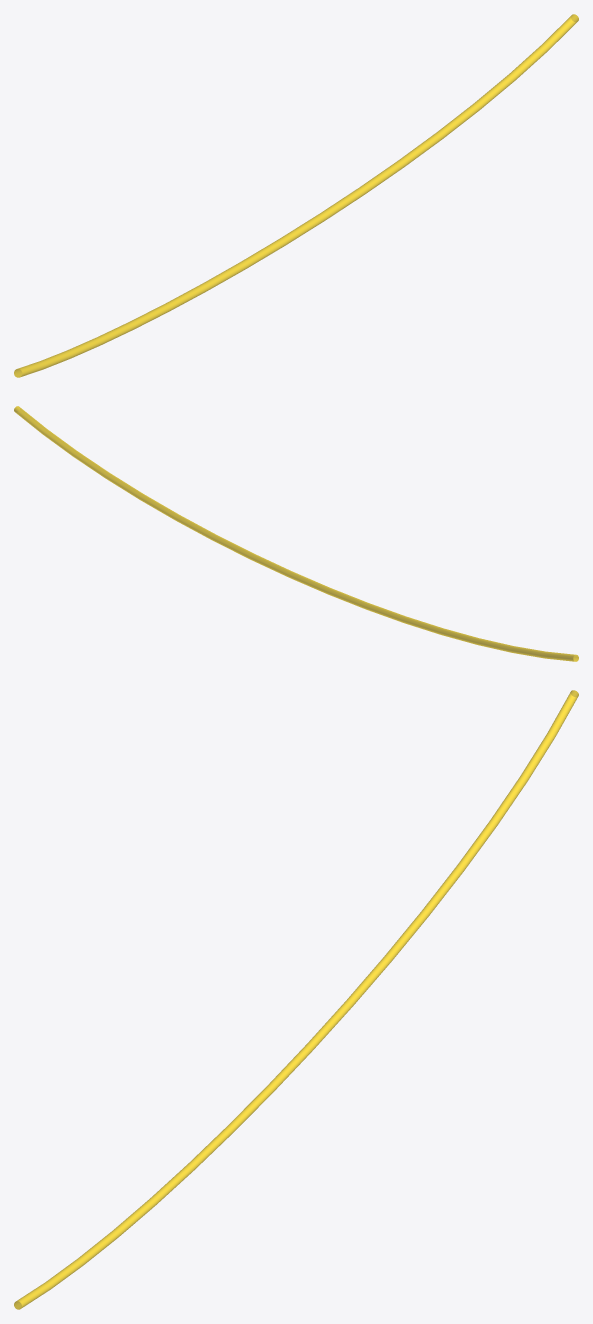
The model's file is Event_84804159_track_12.fbx.
3 views of the same model, one above another, from view 1: azimuth 90°, elevation 25°; view 2: azimuth 150°, elevation 25°; view 3: azimuth 270°, elevation 25° (orthographic). The views are drawn at different scales.
Visible parts, largest first — view 1: Model; view 2: Model; view 3: Model.
Part boxes in pixels (x1,y1,x2,y2): Model: (14, 14, 578, 377); Model: (14, 406, 578, 661); Model: (14, 690, 578, 1309).
Size of the model in its own units: 5.07 by 0.706 by 2.5.
